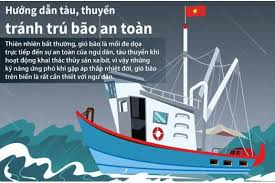tau_dansu: (82, 67, 259, 182)
